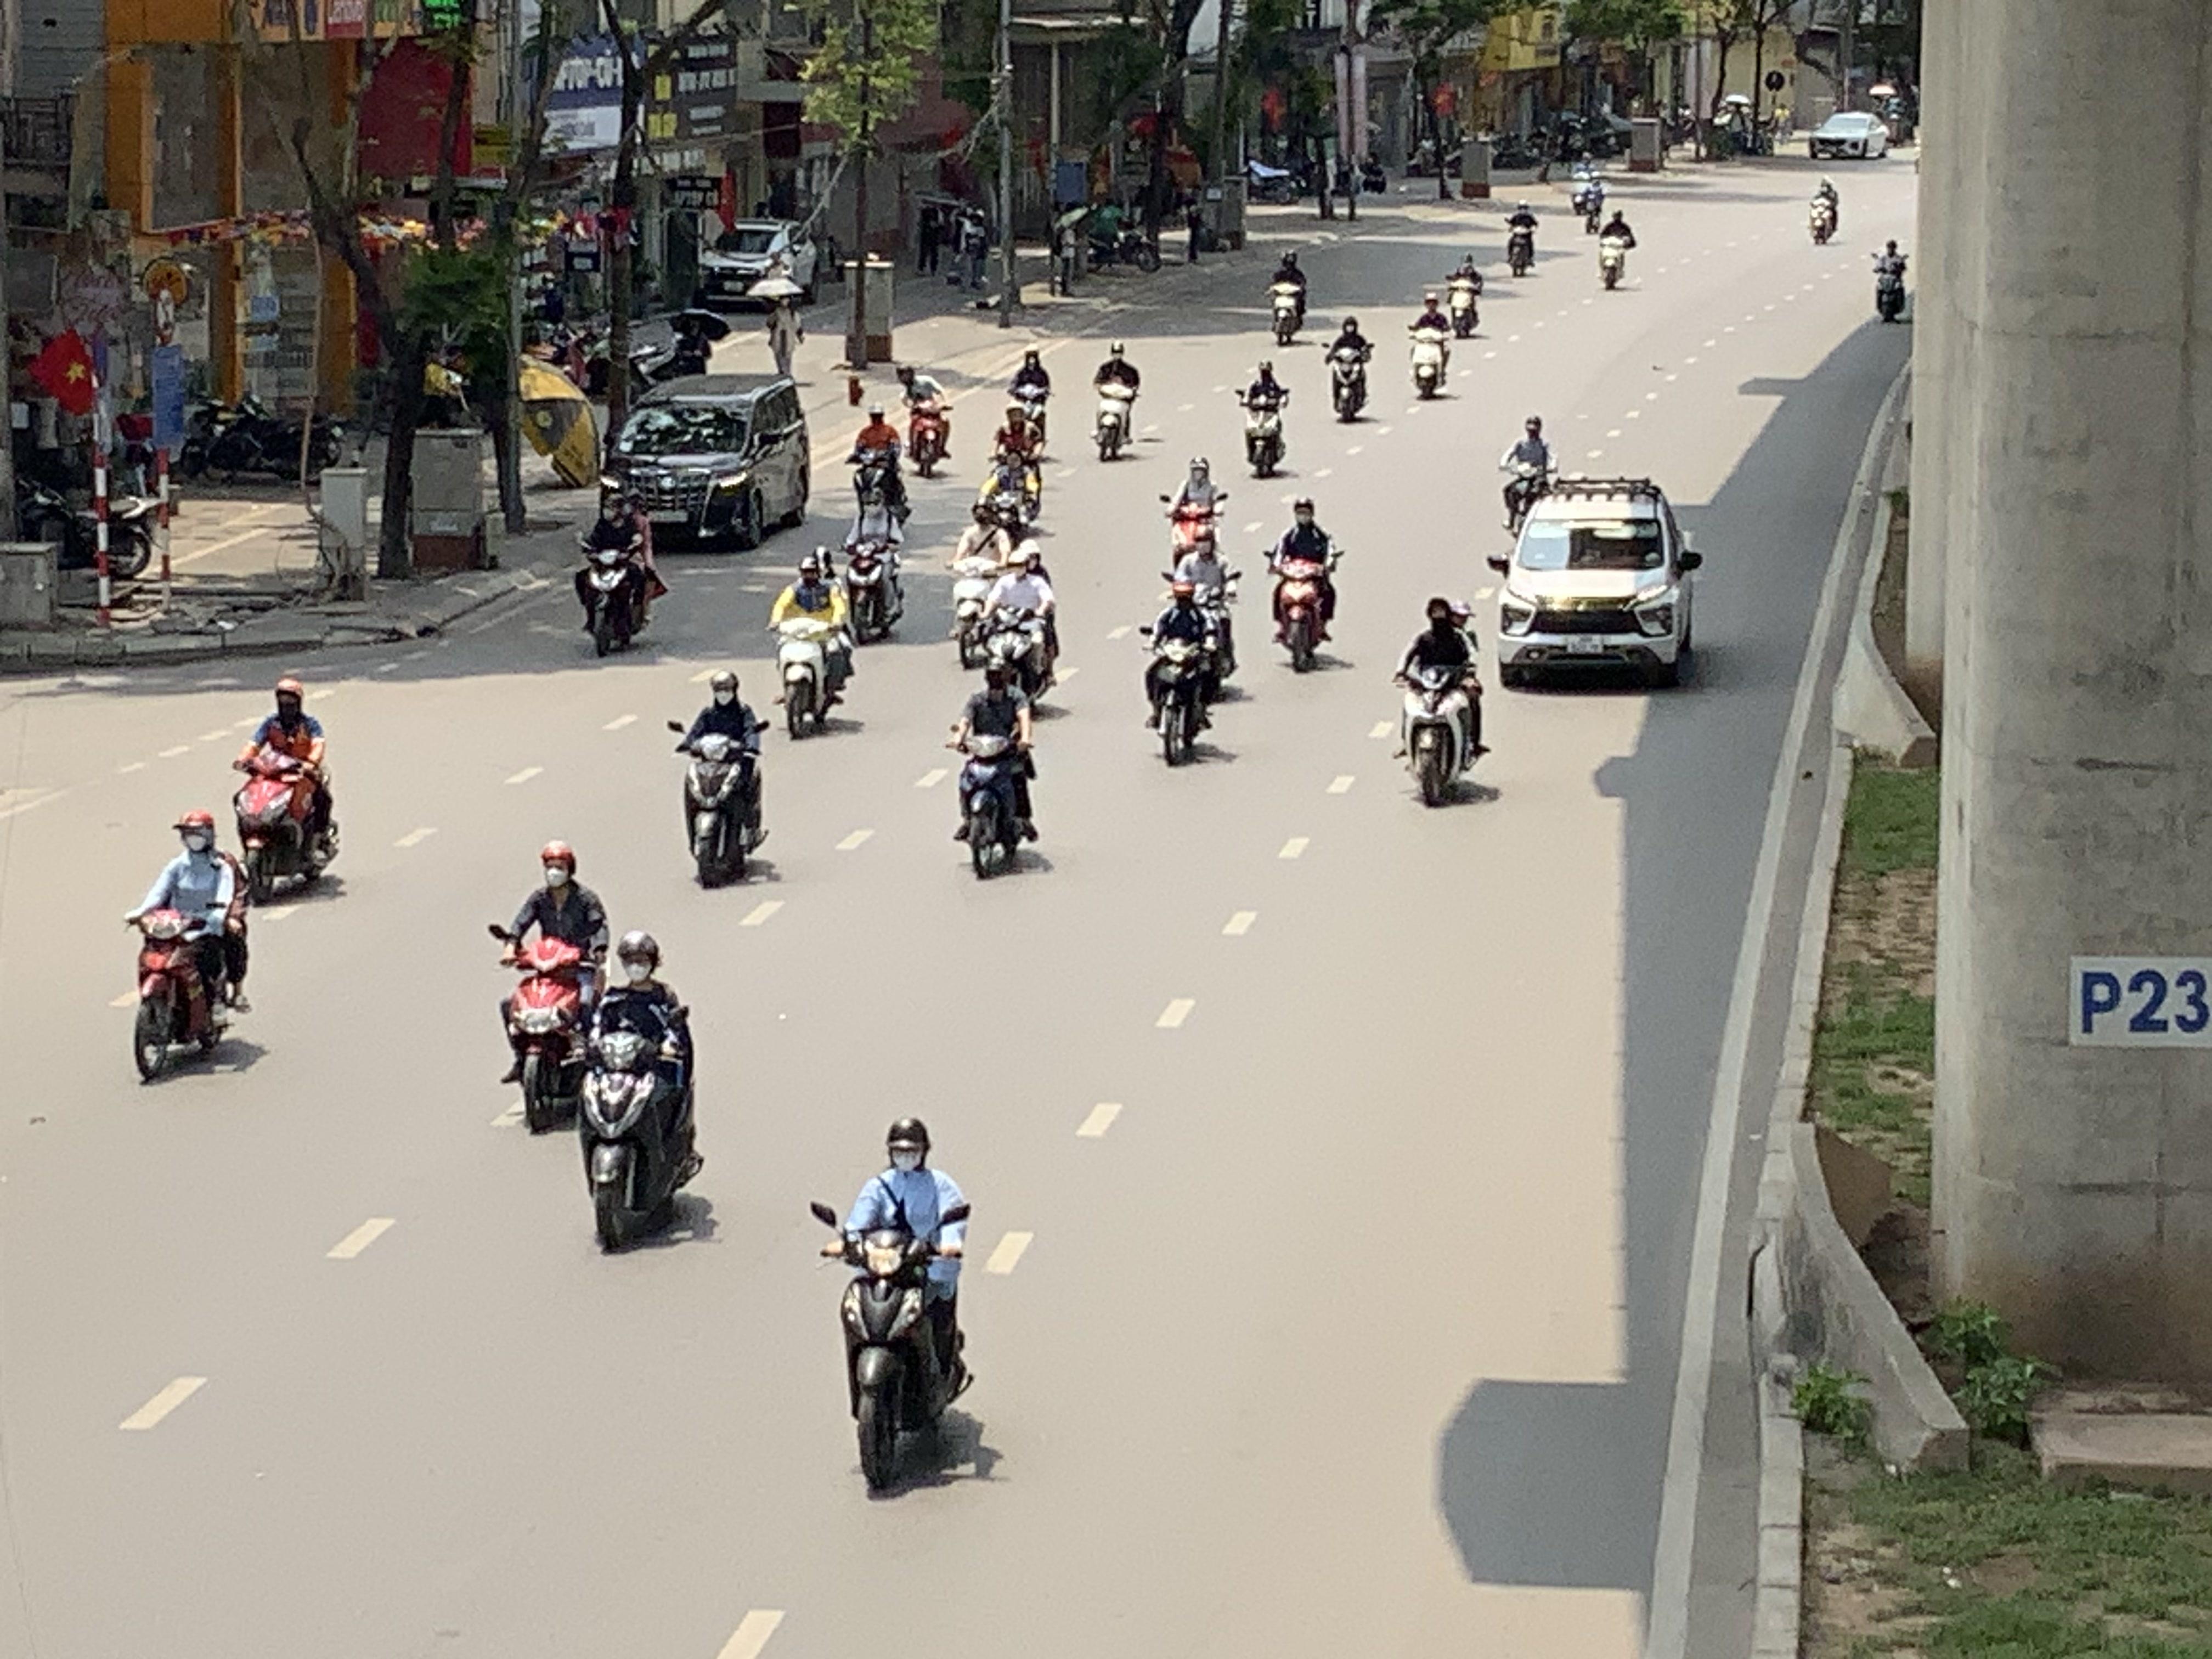car: (1486, 474, 1703, 688), (603, 375, 812, 552), (697, 218, 820, 305), (1808, 110, 1890, 160)
motorbike: (813, 1115, 981, 1500), (573, 927, 705, 1256), (491, 840, 608, 1134), (127, 809, 251, 1086), (230, 678, 341, 903), (672, 667, 772, 889), (949, 660, 1047, 880), (1392, 594, 1489, 807), (1141, 575, 1226, 767), (770, 551, 855, 739), (575, 491, 665, 657), (1266, 498, 1343, 673), (981, 544, 1061, 708), (1165, 525, 1242, 694), (949, 498, 1014, 669), (840, 486, 907, 643), (981, 415, 1047, 538), (1160, 455, 1230, 570), (846, 406, 911, 526), (1498, 415, 1559, 535), (1237, 356, 1291, 476), (1090, 342, 1141, 462), (902, 364, 954, 477), (1324, 312, 1374, 423), (1406, 291, 1454, 401), (1005, 347, 1054, 450), (1268, 247, 1310, 345), (1444, 251, 1486, 338), (1871, 235, 1911, 326), (1597, 209, 1635, 289), (1503, 197, 1540, 277), (1808, 174, 1841, 246), (1573, 167, 1606, 235)
